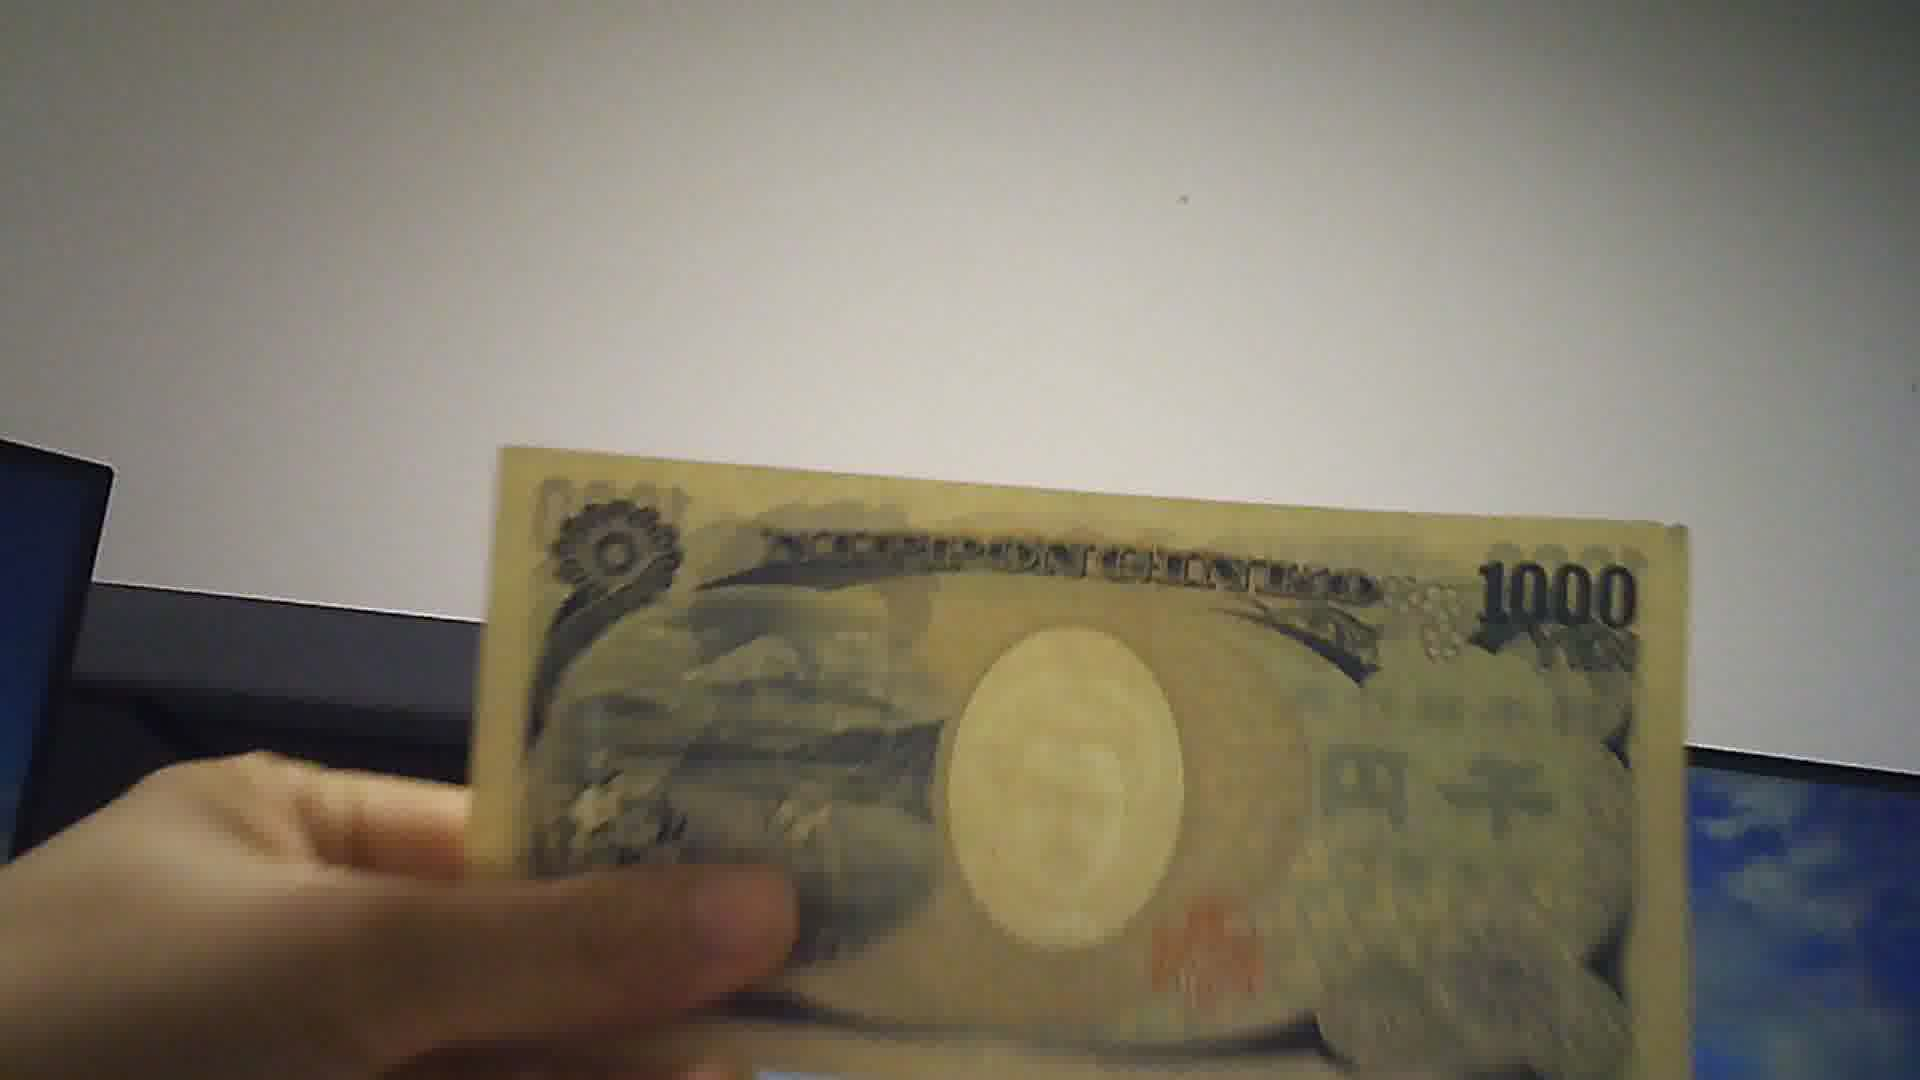1,000 Yen: (456, 429, 1705, 1069)
